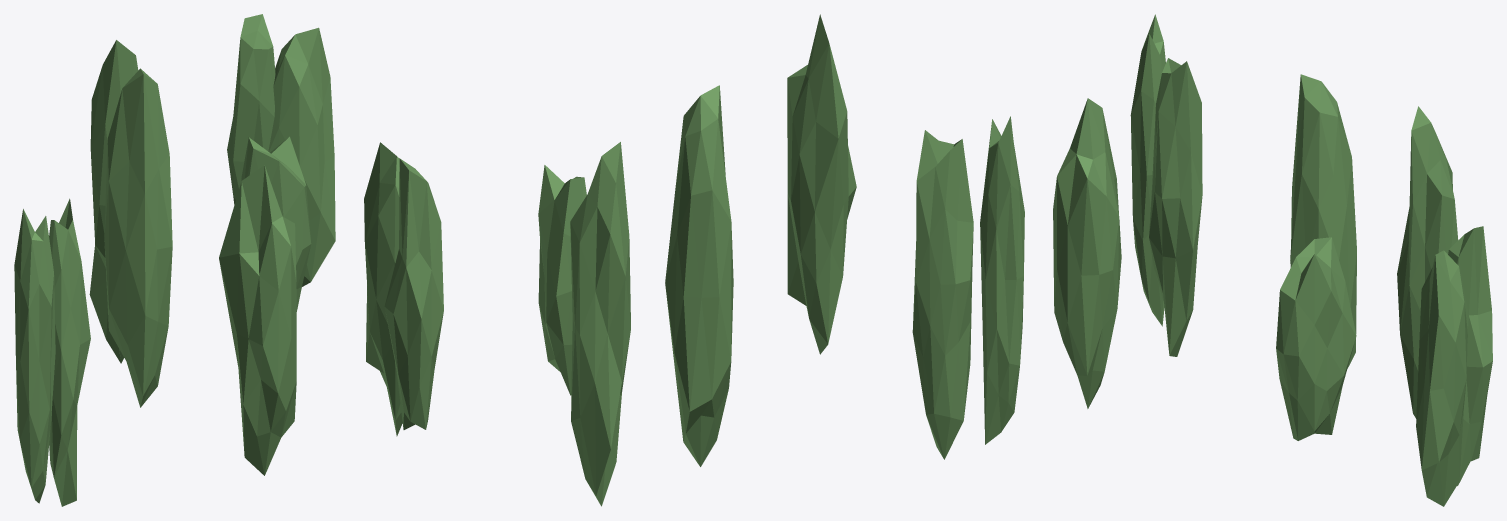
File: grass_tuft_01.glb
3 renders of one model, left to right at view 1: azimuth 30°, elevation 25°; view 2: azimuth 150°, elevation 25°; view 3: azimuth 270°, elevation 25°, orthographic. The views are drawn at different scales.
Parts seen in each view (by area): view 1: grass_tuft_01_1, grass_tuft_01_2, grass_tuft_01_6, grass_tuft_01_4, grass_tuft_01_5, grass_tuft_01_7, grass_tuft_01_0, grass_tuft_01_3; view 2: grass_tuft_01_1, grass_tuft_01_0, grass_tuft_01_2, grass_tuft_01_5, grass_tuft_01_4, grass_tuft_01_7, grass_tuft_01_6, grass_tuft_01_3; view 3: grass_tuft_01_2, grass_tuft_01_3, grass_tuft_01_5, grass_tuft_01_6, grass_tuft_01_1, grass_tuft_01_0, grass_tuft_01_7, grass_tuft_01_4.
Part boxes in pixels (x1=…): grass_tuft_01_1: x1=104, y1=68, x2=172, y2=407; grass_tuft_01_2: x1=219, y1=165, x2=296, y2=475; grass_tuft_01_6: x1=268, y1=27, x2=335, y2=286; grass_tuft_01_4: x1=14, y1=209, x2=55, y2=503; grass_tuft_01_5: x1=49, y1=198, x2=90, y2=506; grass_tuft_01_7: x1=227, y1=14, x2=275, y2=204; grass_tuft_01_0: x1=89, y1=40, x2=138, y2=363; grass_tuft_01_3: x1=241, y1=136, x2=311, y2=311; grass_tuft_01_1: x1=665, y1=85, x2=733, y2=466; grass_tuft_01_0: x1=570, y1=142, x2=630, y2=506; grass_tuft_01_2: x1=787, y1=14, x2=856, y2=354; grass_tuft_01_5: x1=912, y1=130, x2=973, y2=459; grass_tuft_01_4: x1=980, y1=116, x2=1024, y2=444; grass_tuft_01_7: x1=384, y1=158, x2=443, y2=429; grass_tuft_01_6: x1=364, y1=142, x2=402, y2=436; grass_tuft_01_3: x1=538, y1=165, x2=586, y2=395; grass_tuft_01_2: x1=1053, y1=98, x2=1121, y2=408; grass_tuft_01_3: x1=1276, y1=237, x2=1356, y2=440; grass_tuft_01_5: x1=1149, y1=58, x2=1202, y2=356; grass_tuft_01_6: x1=1416, y1=250, x2=1467, y2=506; grass_tuft_01_1: x1=1290, y1=74, x2=1356, y2=368; grass_tuft_01_0: x1=1397, y1=106, x2=1458, y2=418; grass_tuft_01_7: x1=1448, y1=226, x2=1492, y2=485; grass_tuft_01_4: x1=1130, y1=14, x2=1165, y2=326.
Bounding box in the file's own units: 0.7069 × 0.5221 × 0.5898.
